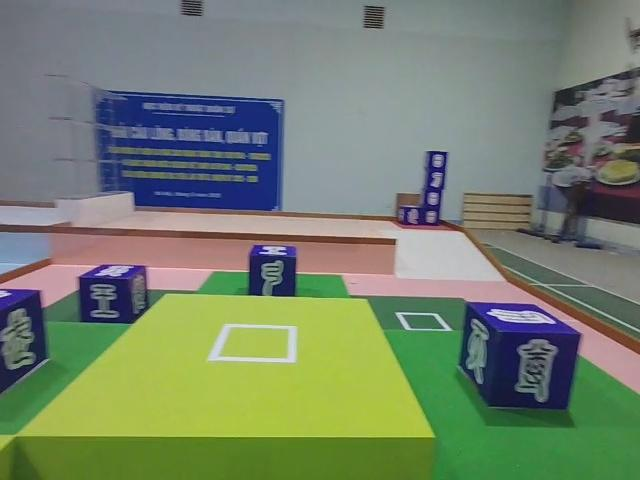R2 Fake Blue: (462, 305, 584, 414), (77, 263, 147, 323), (248, 244, 299, 299)
